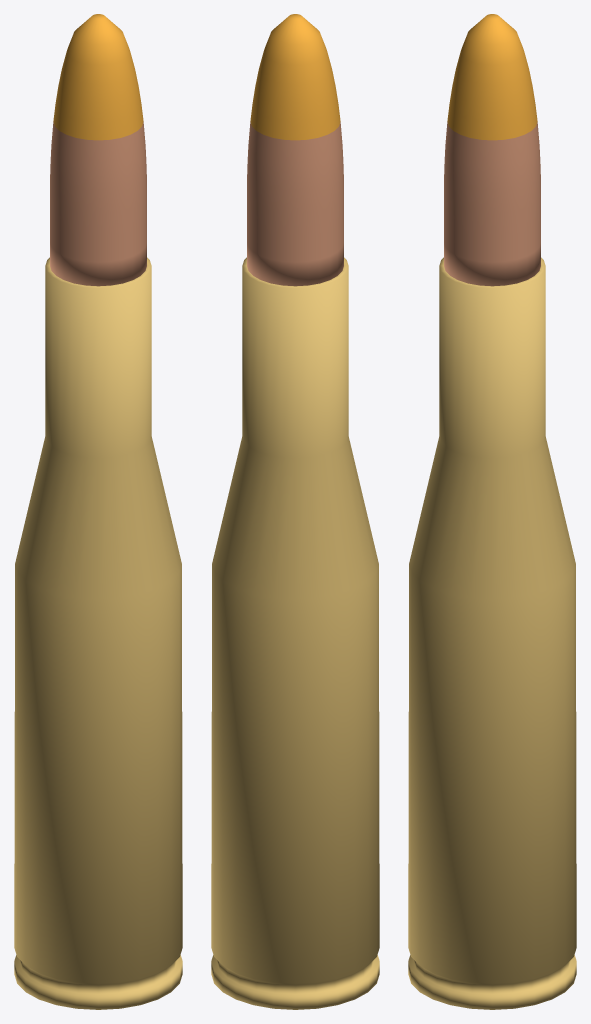
3 views of the same model, side by side, from view 1: azimuth 30°, elevation 25°; view 2: azimuth 150°, elevation 25°; view 3: azimuth 270°, elevation 25° (orthographic).
Parts seen in each view (by area): view 1: vaina, bala_cuerpo, punta; view 2: vaina, bala_cuerpo, punta; view 3: vaina, bala_cuerpo, punta.
Part boxes in pixels (<box>): vaina: <box>14,257,182,1009</box>; bala_cuerpo: <box>50,122,146,286</box>; punta: <box>53,14,143,140</box>; vaina: <box>211,257,379,1009</box>; bala_cuerpo: <box>247,122,343,286</box>; punta: <box>250,14,340,140</box>; vaina: <box>408,257,576,1009</box>; bala_cuerpo: <box>444,122,540,286</box>; punta: <box>447,14,537,140</box>.
Bounding box in the file's own units: 0.0149 × 0.0935 × 0.0149.
